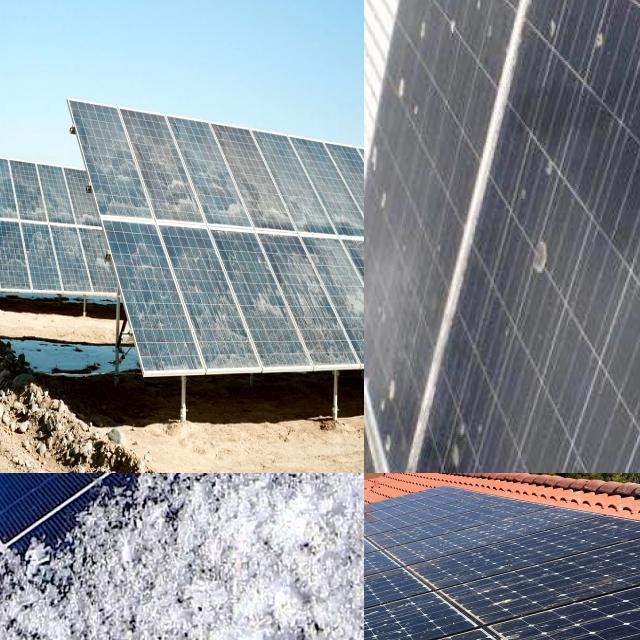dust: (142, 230, 232, 378), (498, 146, 566, 326), (365, 72, 427, 249), (0, 170, 98, 270), (94, 120, 184, 218), (193, 128, 272, 228), (545, 0, 633, 88), (248, 242, 308, 355), (364, 323, 409, 442), (405, 0, 501, 41), (323, 159, 364, 234), (446, 409, 493, 473), (278, 158, 320, 229), (0, 181, 27, 264), (364, 581, 398, 640), (342, 262, 364, 345), (0, 186, 12, 242)
panel: (180, 473, 364, 640), (0, 473, 134, 640), (0, 473, 67, 640), (17, 473, 172, 522), (0, 473, 84, 516), (0, 473, 59, 501)
